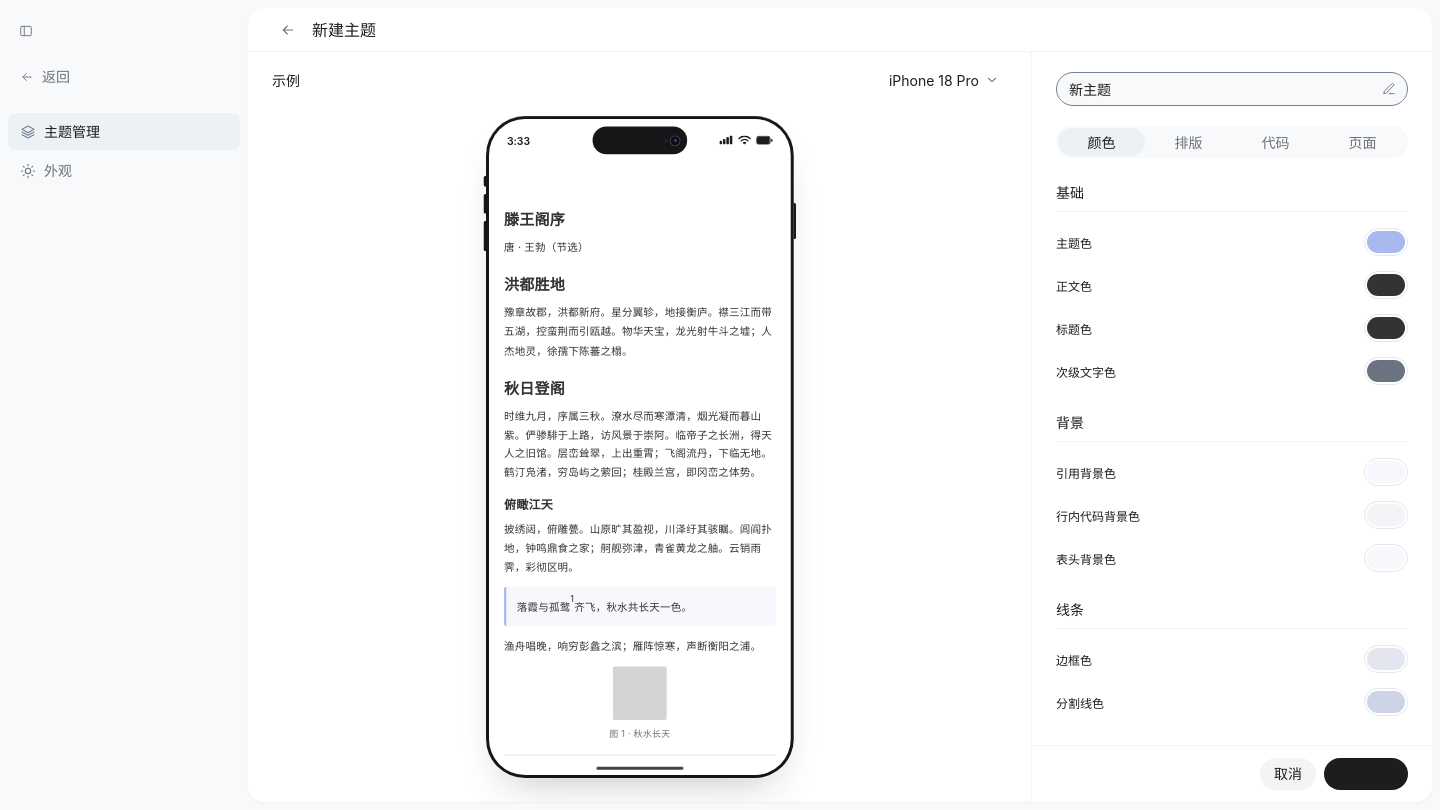
Test: 主题编辑器：新建 › 创建成功后调用接口并回到列表
Replace the text in the field named "主题名称" with "我的主题" at coordinates (1220, 89), box [1069,73,1371,105]
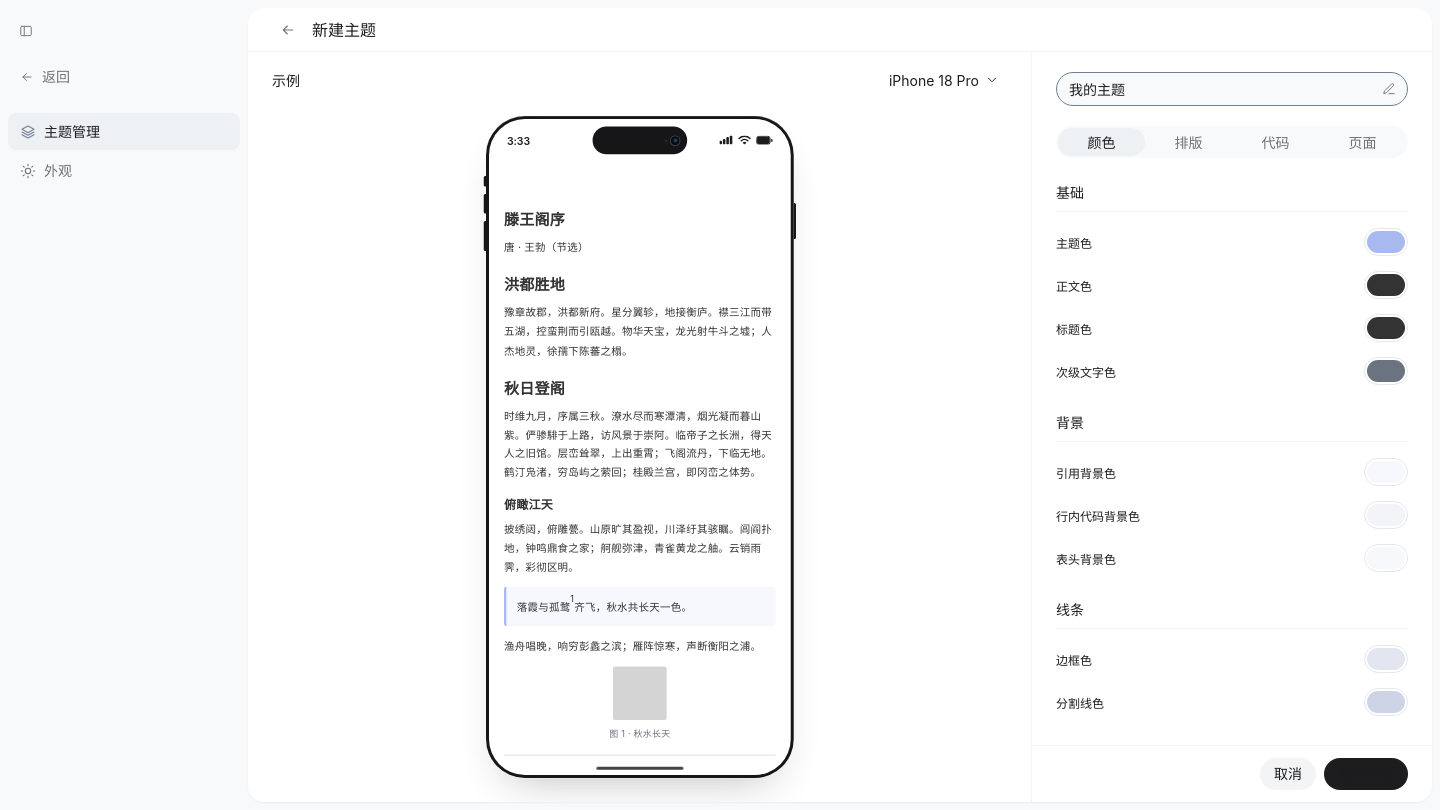
Click the button "创建主题" at coordinates (1366, 774), box [1324,758,1408,790]
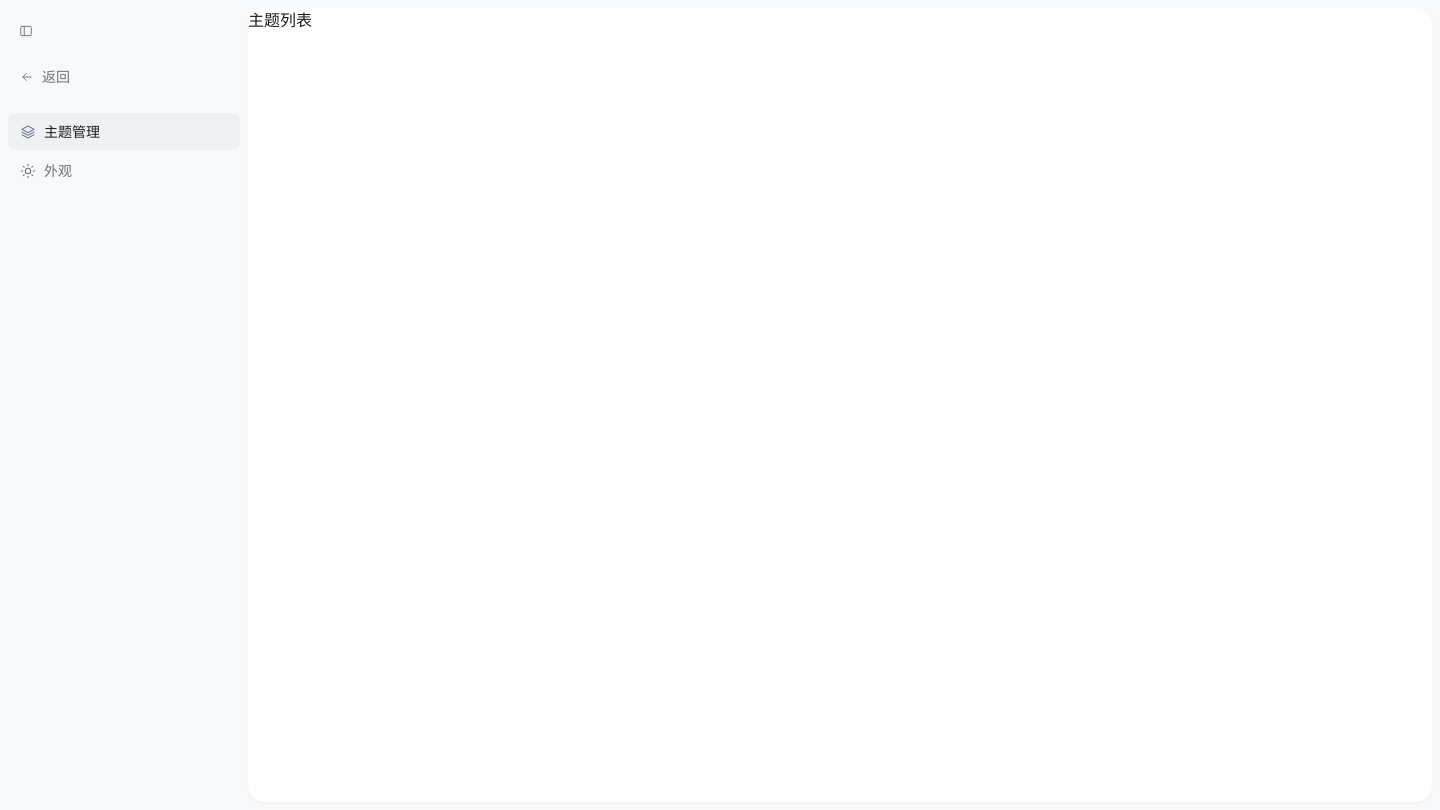
Check: the text "主题列表" is shown, box [248,10,312,30]
